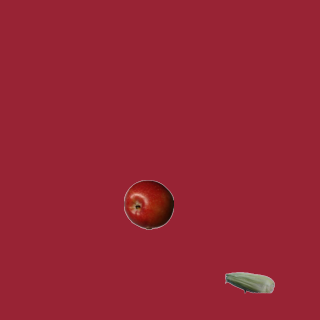Apple Braeburn: (123, 179, 173, 229)
Corn Husk: (224, 257, 274, 307)
